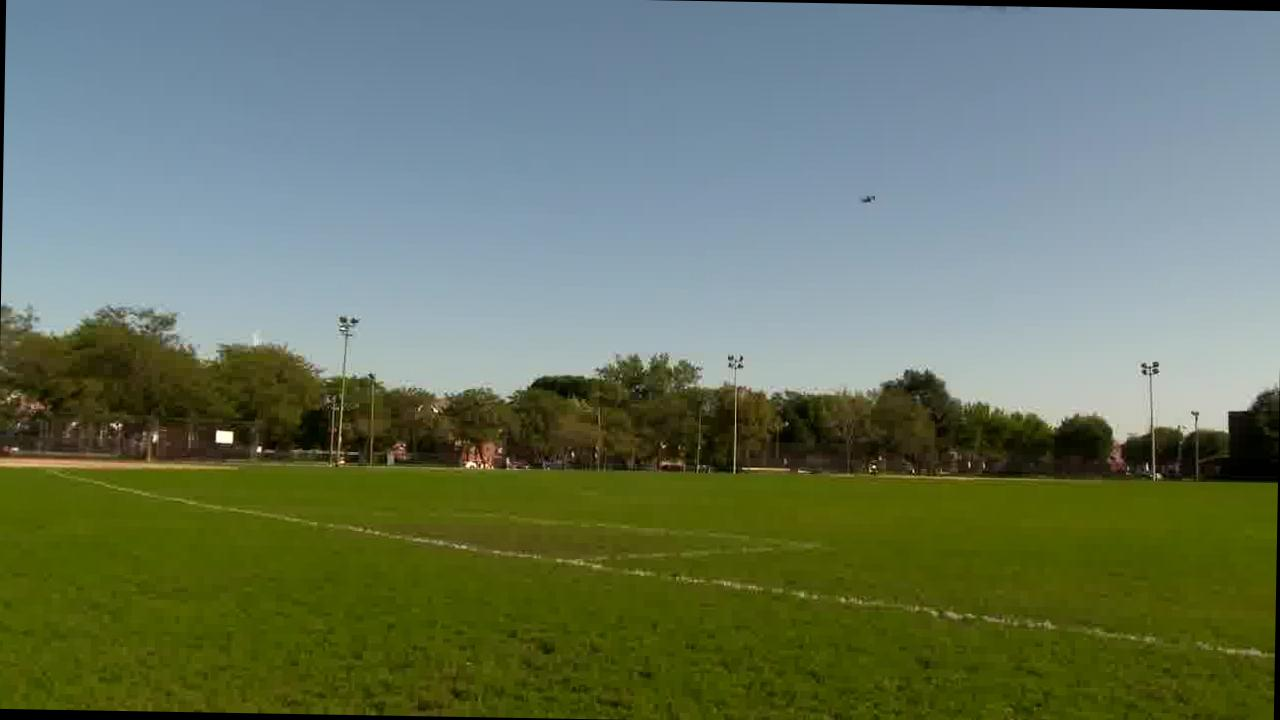drone: (843, 190, 896, 212)
